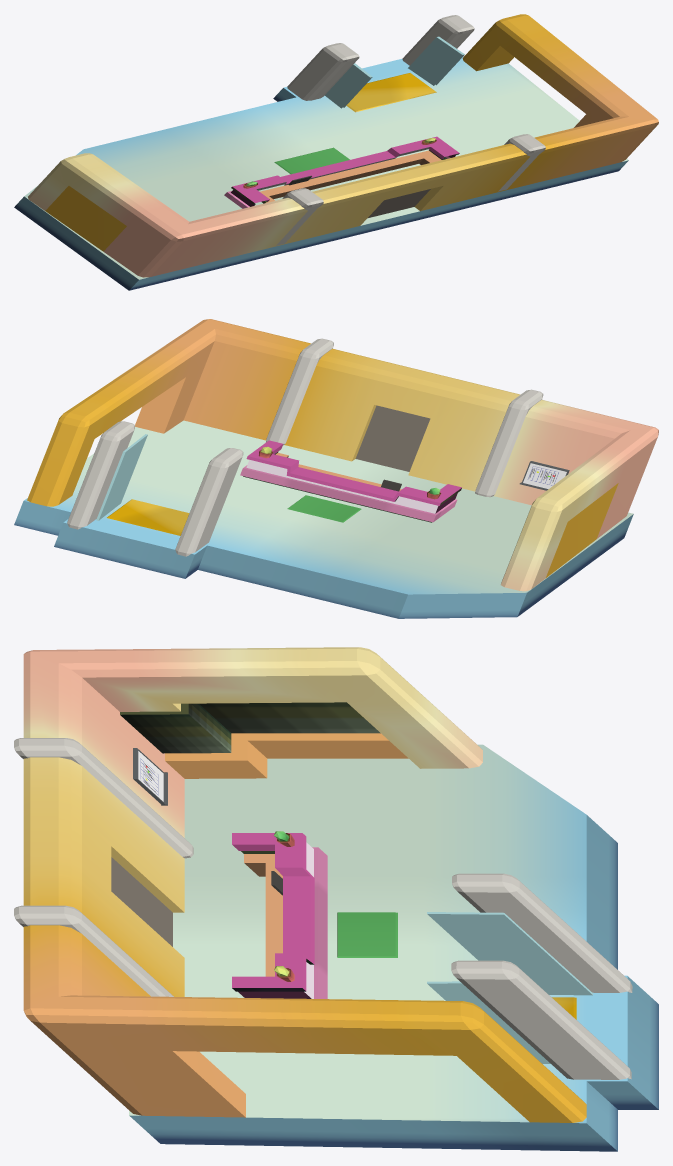
3 renders of one model, top to bottom at view 1: azimuth 30°, elevation 25°; view 2: azimuth 150°, elevation 25°; view 3: azimuth 270°, elevation 25°, orthographic. The views are drawn at different scales.
Visible parts, largest first — view 1: Cube.005, Cube.004, 門框.001, Cube.009, Plane.001, gate, door01.001; view 2: Cube.004, Cube.005, 門框.001, Cube.009, door01.001, Plane.001, gate, Cube.007; view 3: Cube.005, Cube.004, 門框.001, Cube.006, Cube.009, gate, Plane.001, door01.001, Cube.007.
Boxes of the visible parts, left/top/right/bottom form: Cube.005: left=14, top=56, right=628, bottom=290; Cube.004: left=28, top=14, right=658, bottom=277; 門框.001: left=276, top=15, right=545, bottom=245; Cube.009: left=224, top=136, right=459, bottom=208; Plane.001: left=274, top=73, right=436, bottom=174; gate: left=325, top=36, right=464, bottom=108; door01.001: left=368, top=189, right=430, bottom=217; Cube.004: left=27, top=319, right=658, bottom=591; Cube.005: left=14, top=420, right=633, bottom=618; 門框.001: left=67, top=338, right=543, bottom=556; Cube.009: left=240, top=440, right=461, bottom=522; door01.001: left=355, top=405, right=430, bottom=471; Plane.001: left=107, top=495, right=361, bottom=535; gate: left=96, top=434, right=147, bottom=520; Cube.007: left=519, top=461, right=569, bottom=490; Cube.005: left=129, top=744, right=658, bottom=1151; Cube.004: left=23, top=647, right=586, bottom=1122; 門框.001: left=14, top=738, right=632, bottom=1079; Cube.006: left=120, top=702, right=408, bottom=778; Cube.009: left=232, top=833, right=327, bottom=998; gate: left=427, top=912, right=593, bottom=1063; Plane.001: left=337, top=912, right=576, bottom=1019; door01.001: left=111, top=857, right=172, bottom=946; Cube.007: left=133, top=748, right=167, bottom=805.
Bounding box in the file's own units: 2451 × 415 × 1764.
Materials: 2 (1 with a texture image).
